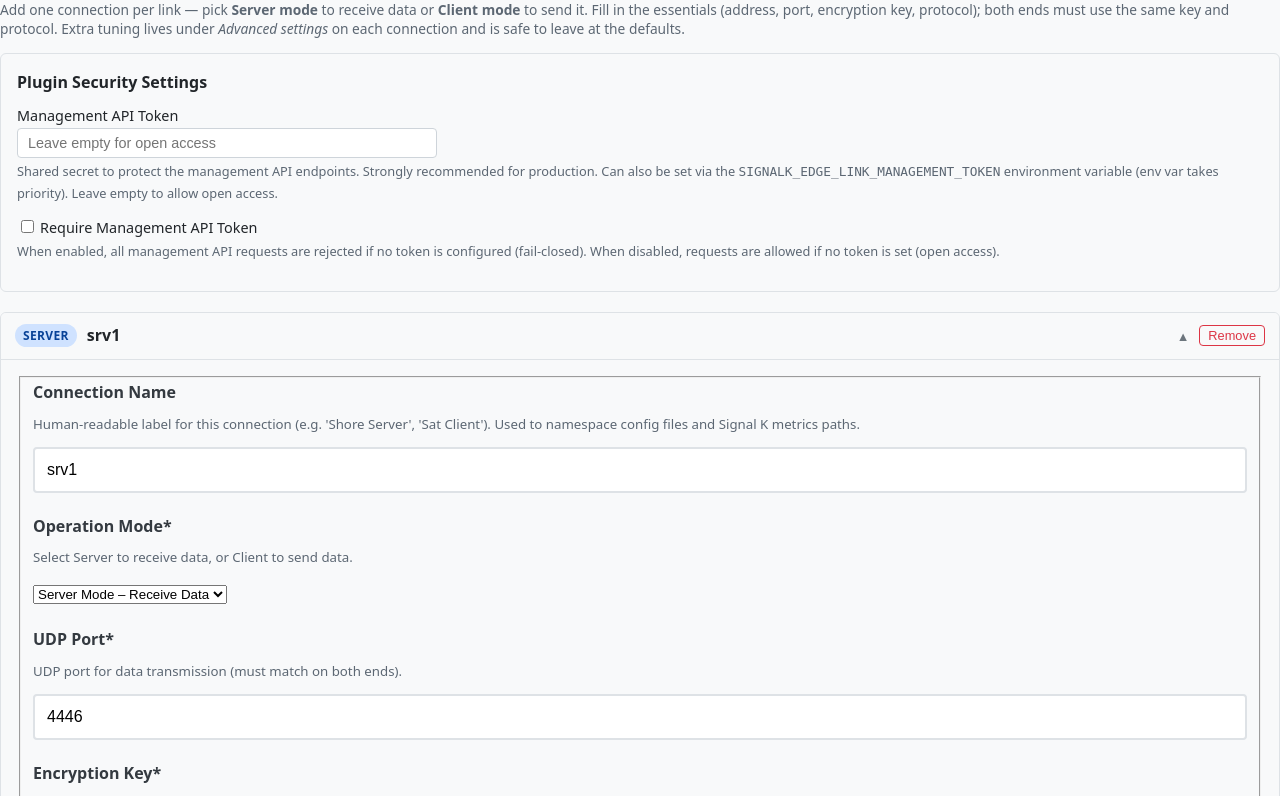
it: PluginConfigurationPanel › clicking Remove deletes that connection
Expected: the text "srv1" is shown, [87,324,120,346]
Click the button "Remove" at (1232, 336), box [1199,325,1265,346]
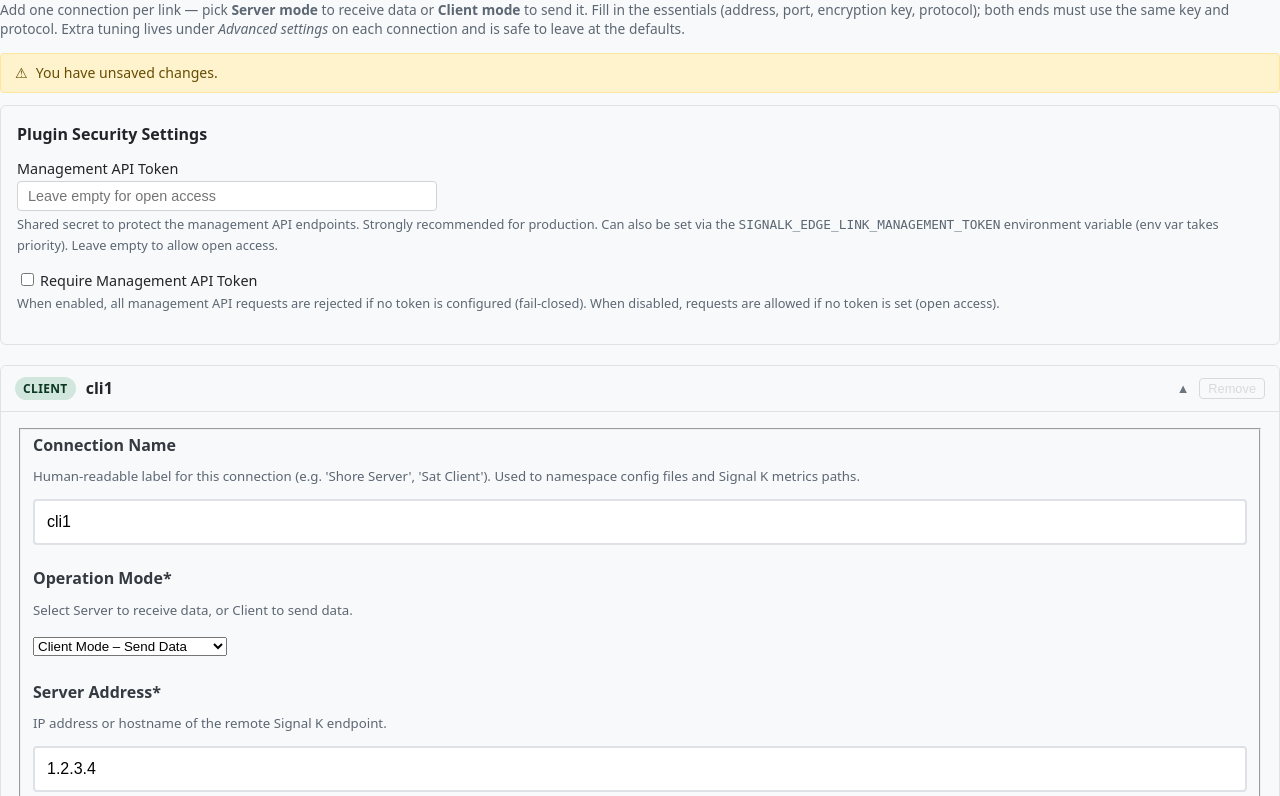
Expected: the text "cli1" is shown, [86,377,113,399]
Expected: the button "srv1" is gone
